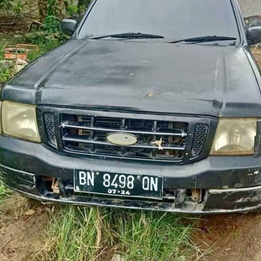plate: (71, 168, 165, 203)
